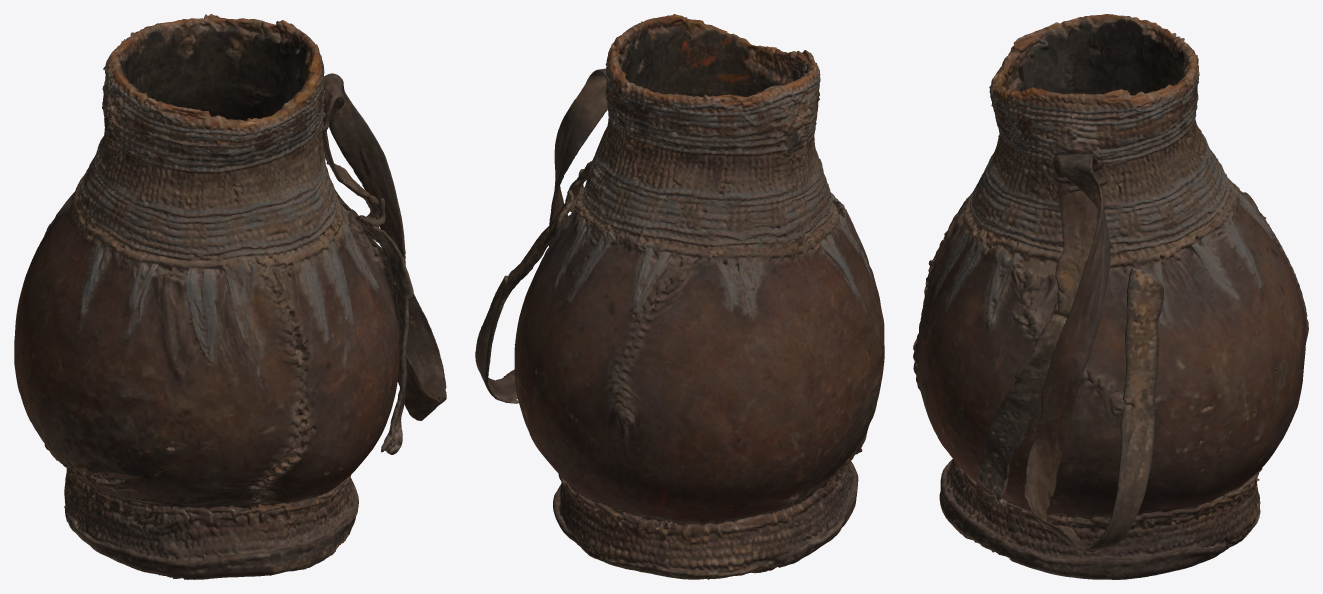
The model's file is WaterPot.glb.
The picture shows the model from 3 angles, left to right: view 1: azimuth 30°, elevation 25°; view 2: azimuth 150°, elevation 25°; view 3: azimuth 270°, elevation 25°; orthographic projection.
Parts seen in each view (by area): view 1: wgxobbm_LOD0_TIER0_000_MatID_1_0; view 2: wgxobbm_LOD0_TIER0_000_MatID_1_0; view 3: wgxobbm_LOD0_TIER0_000_MatID_1_0.
Part boxes in pixels (bbox=[...]): wgxobbm_LOD0_TIER0_000_MatID_1_0: bbox=[14, 14, 446, 579]; wgxobbm_LOD0_TIER0_000_MatID_1_0: bbox=[475, 14, 884, 579]; wgxobbm_LOD0_TIER0_000_MatID_1_0: bbox=[913, 14, 1308, 579].
Bounding box in the file's own units: 0.1668 × 0.193 × 0.1471.
1 material, 1 textured.
